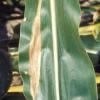Corn leaf blight: (19, 1, 91, 99)
